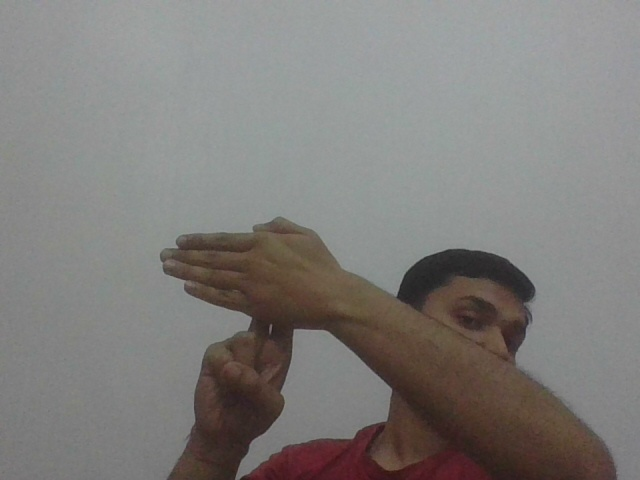N: (158, 214, 332, 347)
